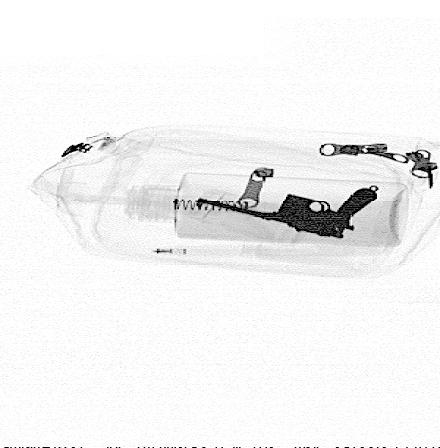Gun: (195, 187, 380, 238)
